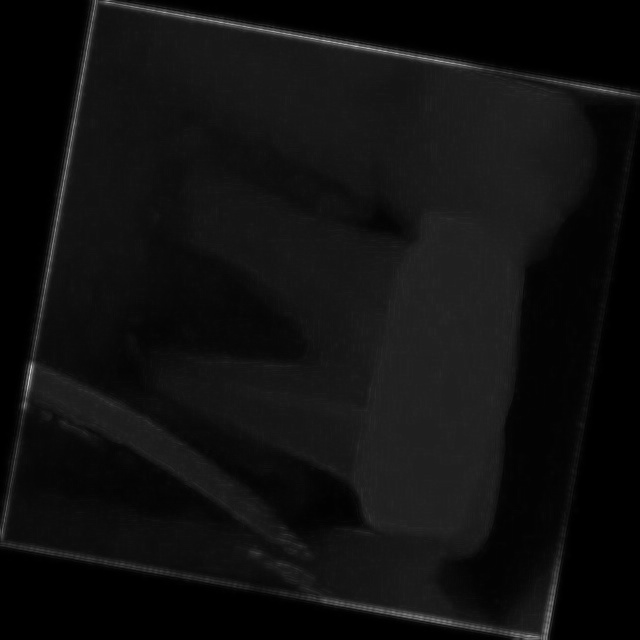Class 2- incomplete endodontic treatment: (86, 136, 584, 575)
